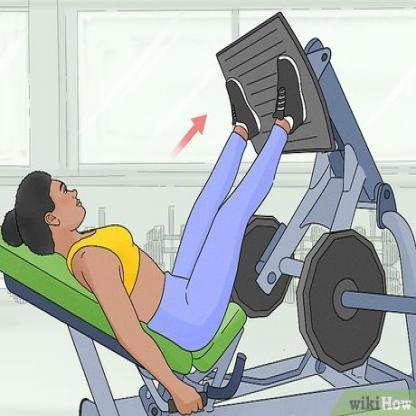leg press: (0, 3, 416, 416)
